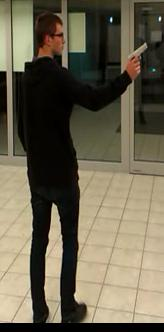pistol: (125, 42, 149, 74)
